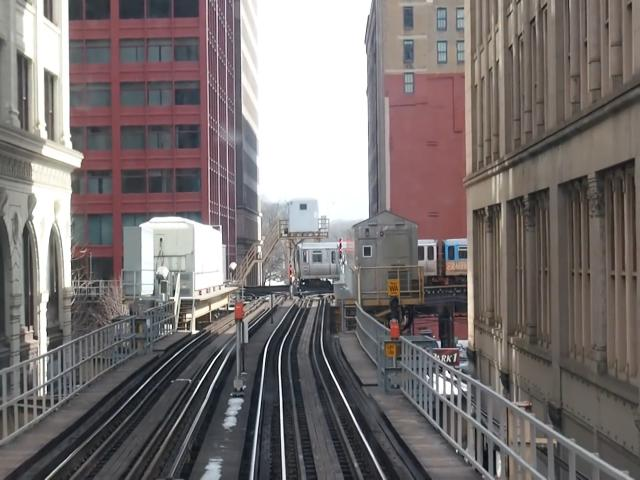signal light: (340, 238, 345, 262), (290, 264, 294, 286)
